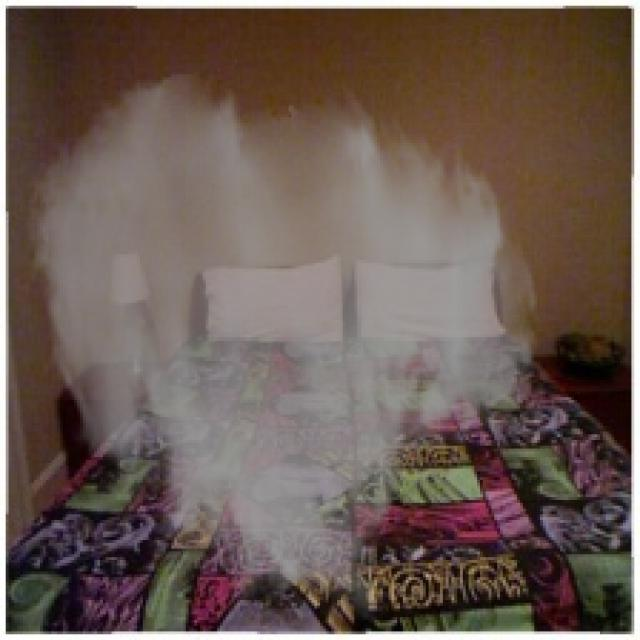smoke: (23, 68, 543, 623)
